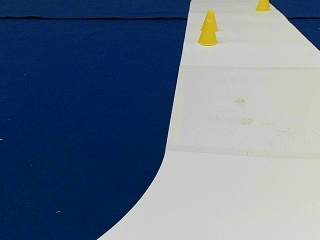cone: (197, 13, 218, 45), (203, 9, 216, 23), (255, 0, 268, 10)
